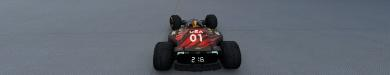Car: (152, 13, 241, 71)
grass: (0, 0, 389, 74)
